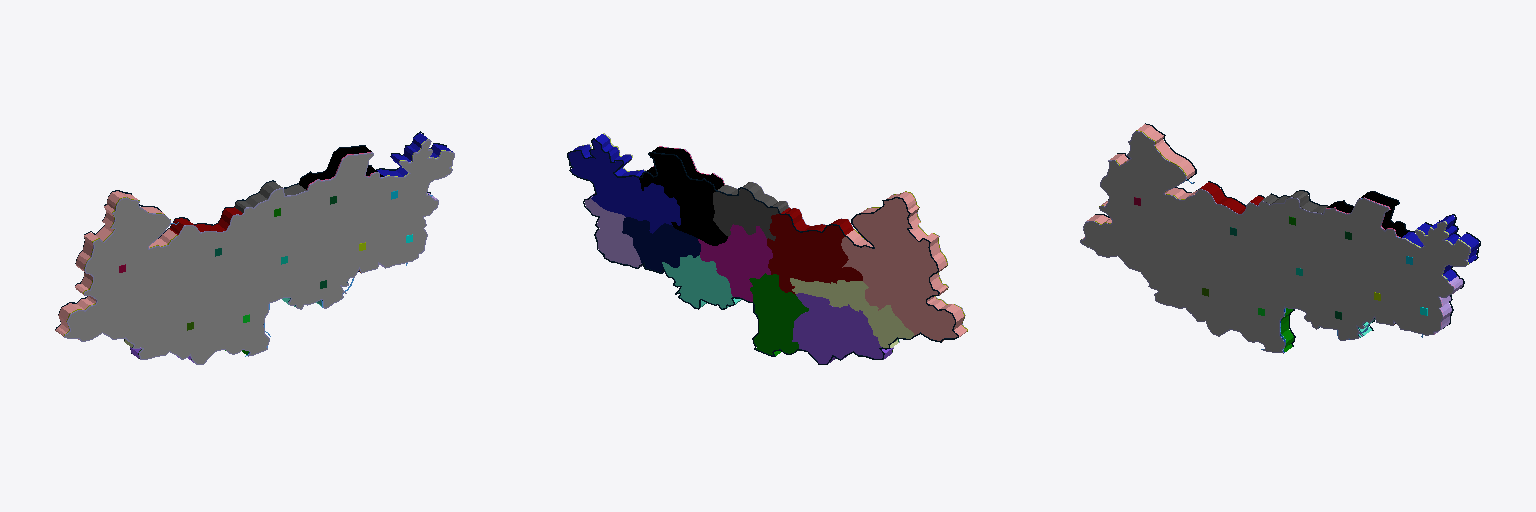
The model's file is deqing17.obj.
3 views of the same model, side by side, from view 1: azimuth 30°, elevation 25°; view 2: azimuth 150°, elevation 25°; view 3: azimuth 330°, elevation 25° (orthographic).
Visible parts, largest first — view 1: texture, [number redacted]_bottom, top_border, [number redacted]_bottom, [number redacted]_bottom, [number redacted]_bottom, [number redacted]_bottom; view 2: [number redacted]_bottom, [number redacted]_bottom, [number redacted]_bottom, [number redacted]_bottom, [number redacted]_bottom, [number redacted]_bottom, [number redacted]_bottom, [number redacted]_bottom, [number redacted]_bottom, [number redacted]_bottom, [number redacted]_bottom, bottom_border (+1 smaller); view 3: texture, top_border, [number redacted]_bottom, [number redacted]_bottom, [number redacted]_bottom, bottom_border.
Boxes of the visible parts, x1=… form: texture: x1=65, y1=141, x2=453, y2=363; [number redacted]_bottom: x1=55, y1=191, x2=176, y2=339; top_border: x1=64, y1=139, x2=454, y2=364; [number redacted]_bottom: x1=299, y1=146, x2=383, y2=189; [number redacted]_bottom: x1=377, y1=133, x2=452, y2=194; [number redacted]_bottom: x1=235, y1=181, x2=305, y2=212; [number redacted]_bottom: x1=170, y1=207, x2=241, y2=234; [number redacted]_bottom: x1=841, y1=192, x2=966, y2=341; [number redacted]_bottom: x1=767, y1=208, x2=862, y2=294; [number redacted]_bottom: x1=568, y1=134, x2=680, y2=233; [number redacted]_bottom: x1=792, y1=293, x2=892, y2=363; [number redacted]_bottom: x1=639, y1=147, x2=727, y2=245; [number redacted]_bottom: x1=698, y1=224, x2=772, y2=301; [number redacted]_bottom: x1=749, y1=273, x2=808, y2=355; [number redacted]_bottom: x1=790, y1=278, x2=913, y2=347; [number redacted]_bottom: x1=713, y1=182, x2=787, y2=240; [number redacted]_bottom: x1=622, y1=217, x2=700, y2=273; [number redacted]_bottom: x1=662, y1=255, x2=741, y2=308; bottom_border: x1=567, y1=138, x2=958, y2=364; texture: x1=1081, y1=132, x2=1468, y2=351; top_border: x1=1080, y1=131, x2=1470, y2=353; [number redacted]_bottom: x1=1083, y1=124, x2=1197, y2=238; [number redacted]_bottom: x1=1402, y1=215, x2=1478, y2=281; [number redacted]_bottom: x1=1327, y1=191, x2=1408, y2=237; bottom_border: x1=1095, y1=123, x2=1480, y2=346.
Bounding box in the file's own units: 84.49 × 39.16 × 3.63.